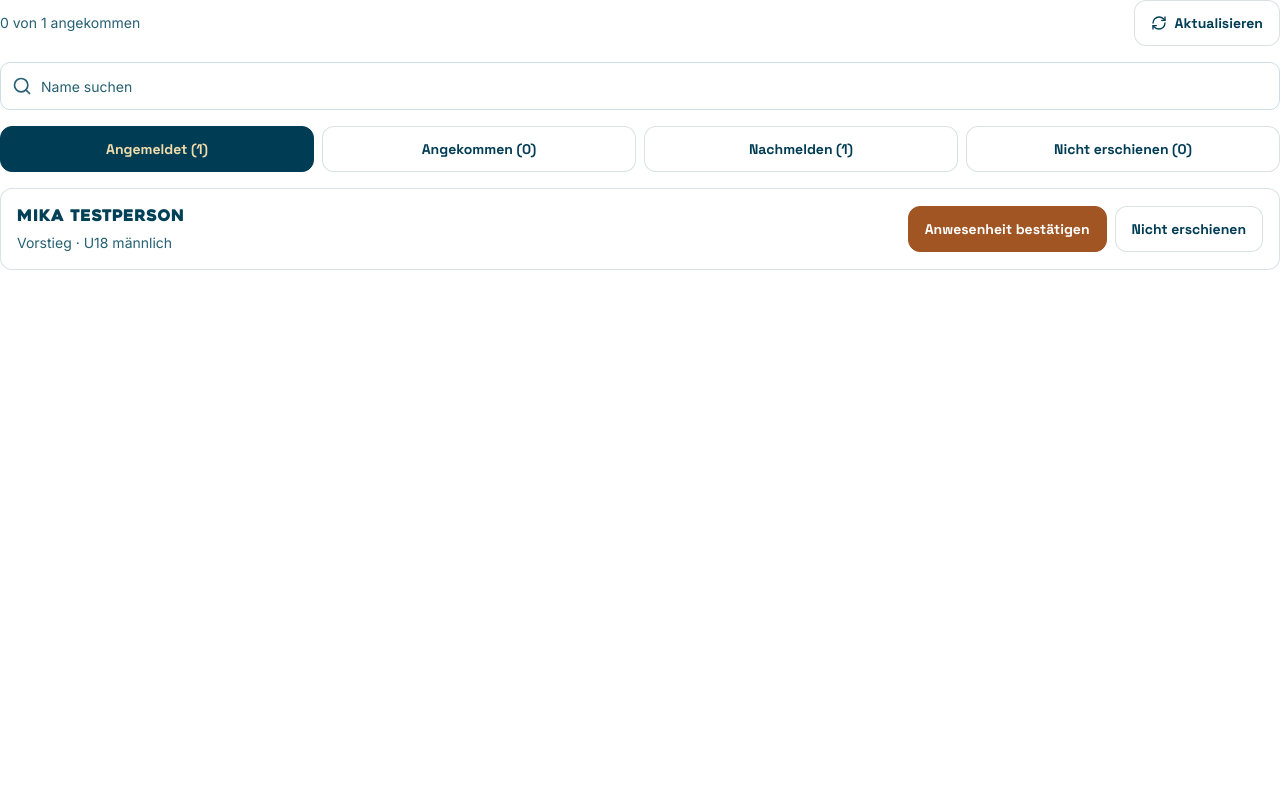
Test case: event attendance desk › requires an admin reason for absence and keeps crew recovery controls hidden
The width and height of the screenshot is (1280, 800).
Later steps or results of the test are not shown.
Click the button with aria-label "Mika Testperson als nicht erschienen markieren". click: [1189, 229]
box: [1115,206,1263,252]
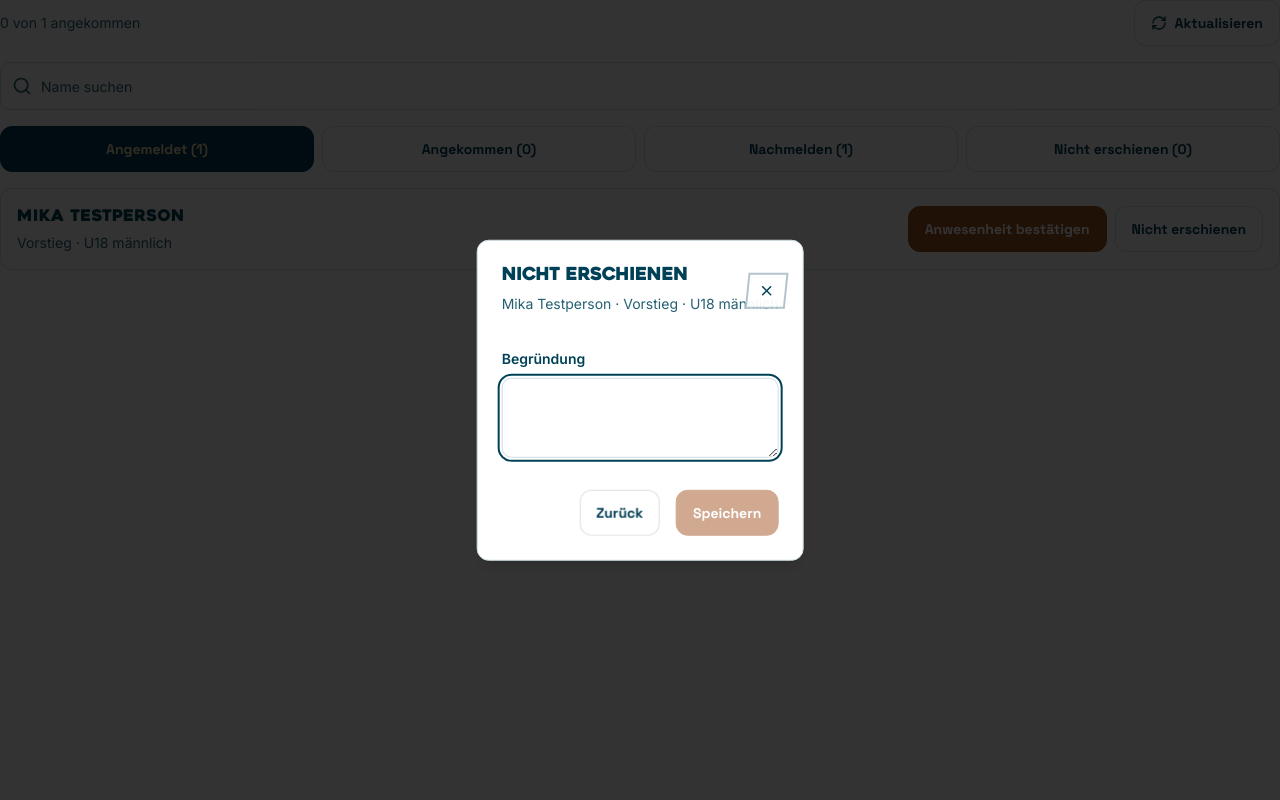
expect the button "Speichern" is disabled: met, box [676,489,778,535]
